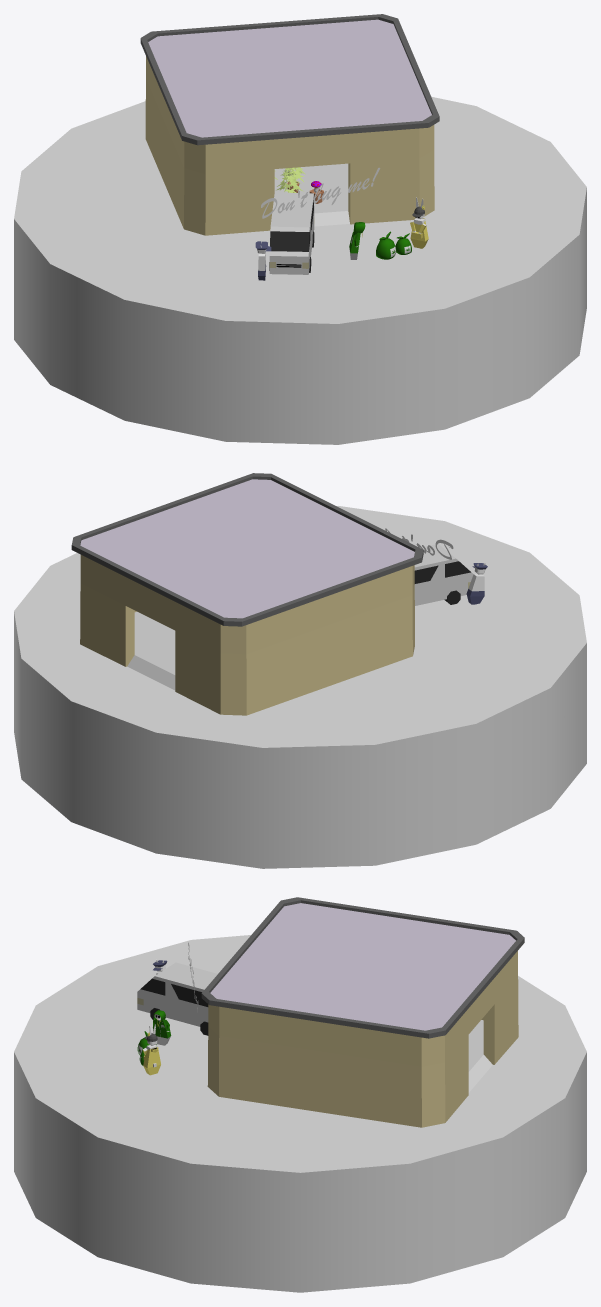
File: opening.fbx
The picture shows the model from 3 angles, top to bottom: view 1: azimuth 30°, elevation 25°; view 2: azimuth 150°, elevation 25°; view 3: azimuth 270°, elevation 25°; orthographic projection.
Visible parts, largest first — view 1: Circle.007, roof.000, Plane.040, Cube.004, Text; view 2: Circle.007, roof.000, Plane.040, Cube.004; view 3: Circle.007, roof.000, Plane.040, Cube.004.
Boxes of the visible parts, x1=… form: Circle.007: x1=14, y1=96, x2=586, y2=444; roof.000: x1=140, y1=14, x2=439, y2=145; Plane.040: x1=145, y1=56, x2=434, y2=235; Cube.004: x1=269, y1=192, x2=314, y2=274; Text: x1=261, y1=167, x2=380, y2=218; Circle.007: x1=14, y1=506, x2=586, y2=868; roof.000: x1=71, y1=473, x2=423, y2=626; Plane.040: x1=80, y1=555, x2=414, y2=715; Cube.004: x1=414, y1=544, x2=473, y2=605; Circle.007: x1=14, y1=935, x2=586, y2=1292; roof.000: x1=201, y1=897, x2=524, y2=1038; Plane.040: x1=207, y1=951, x2=518, y2=1127; Cube.004: x1=137, y1=962, x2=217, y2=1035.
Bounding box in the file's own units: 2504 × 1044 × 2504.
